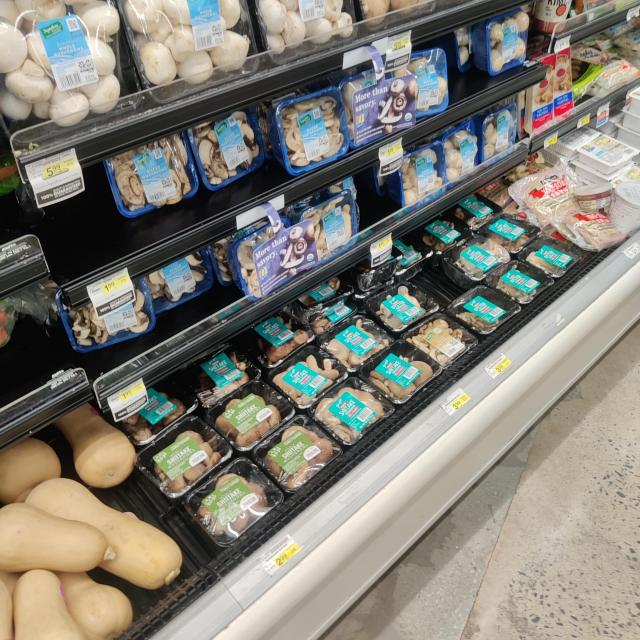Mushrooms: (0, 0, 148, 147), (117, 0, 259, 97), (184, 458, 290, 546), (133, 414, 231, 498), (103, 130, 202, 210), (252, 411, 347, 491), (205, 381, 300, 451), (306, 377, 399, 445), (254, 0, 364, 56), (280, 88, 353, 171), (190, 108, 264, 188), (356, 339, 444, 405), (122, 379, 198, 452), (268, 344, 349, 407), (180, 348, 260, 411), (294, 189, 359, 263), (316, 314, 398, 372), (76, 282, 150, 344), (385, 49, 450, 115), (400, 314, 475, 367), (365, 281, 441, 333), (245, 311, 315, 364), (394, 144, 448, 208), (441, 233, 511, 280), (482, 11, 536, 68), (440, 120, 478, 184), (481, 104, 519, 165)
